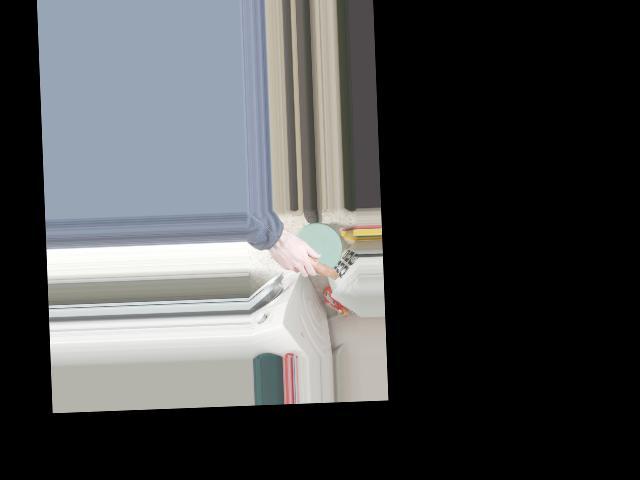sweet_potato: (284, 241, 336, 281)
